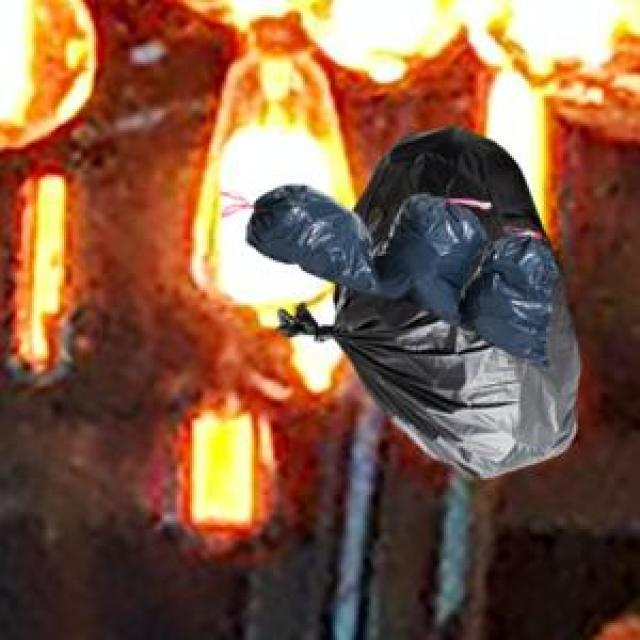miscellaneous trash: (273, 122, 576, 474), (243, 181, 553, 365)
